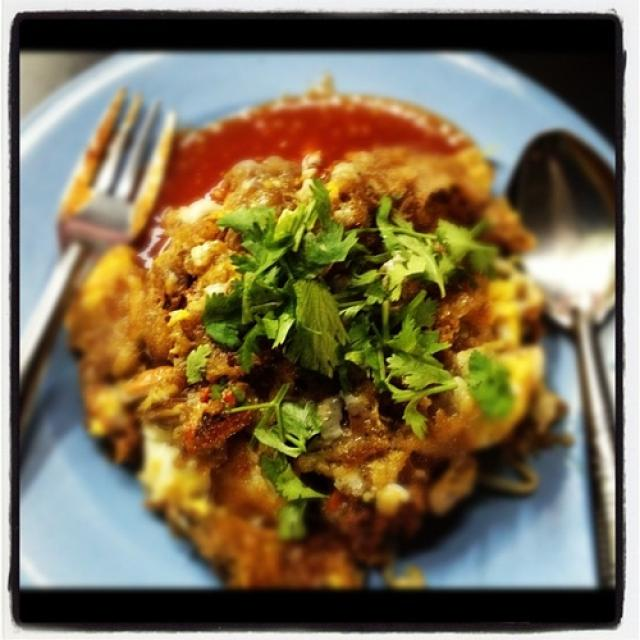炸货点心: (54, 77, 585, 604)
蛋糕甜品: (54, 77, 585, 604)
